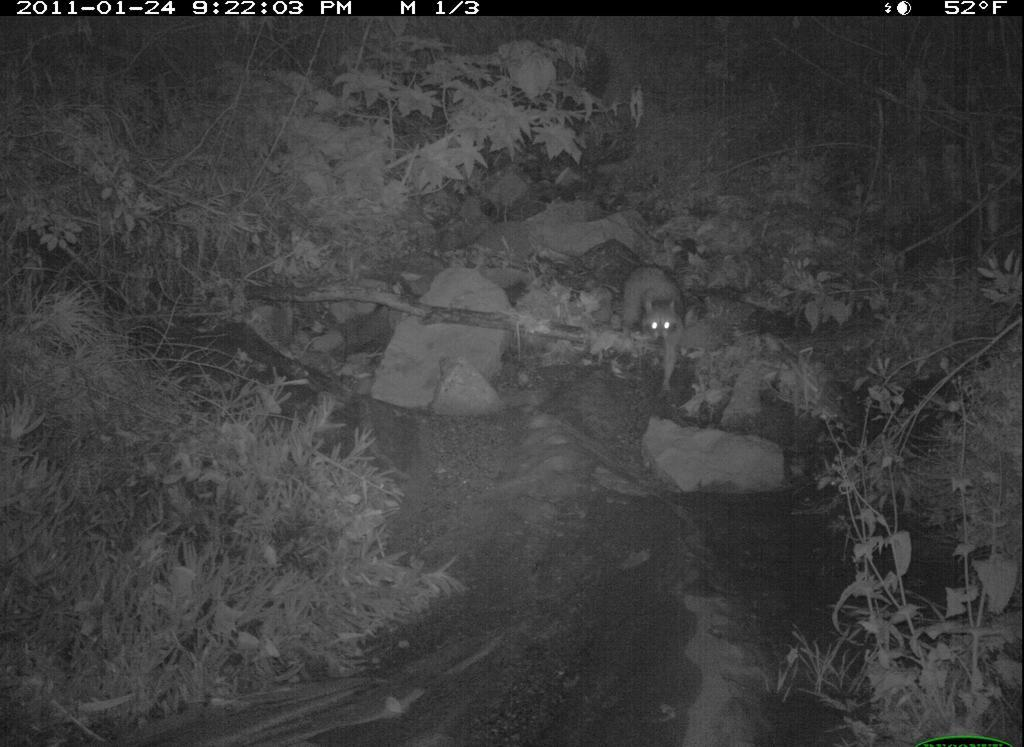raccoon: (621, 260, 696, 397)
